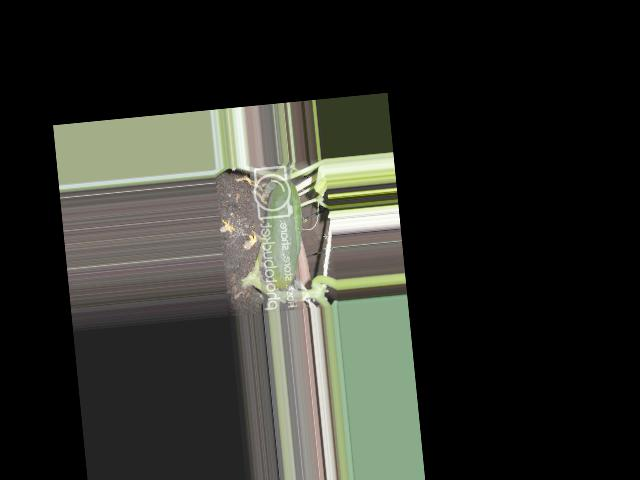cucumber: (258, 180, 308, 289)
